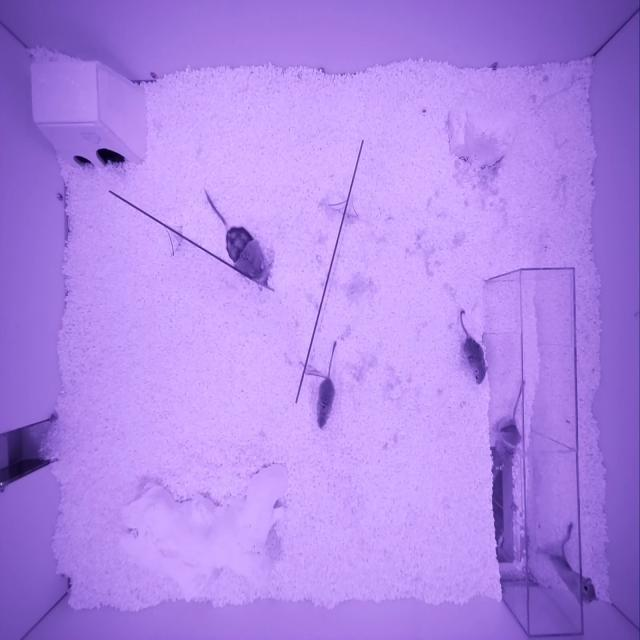adult_back: (227, 227, 270, 291)
pup_fluffy: (316, 378, 335, 429)
pup_h_stripe: (495, 419, 522, 468)
pup_spotted: (462, 336, 488, 385)
pup_v_stripe: (550, 548, 600, 605)
